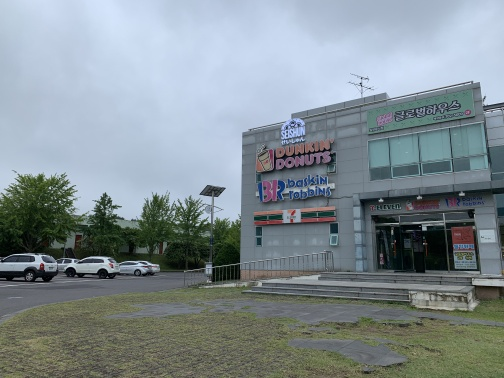Global House: (219, 77, 500, 310)
